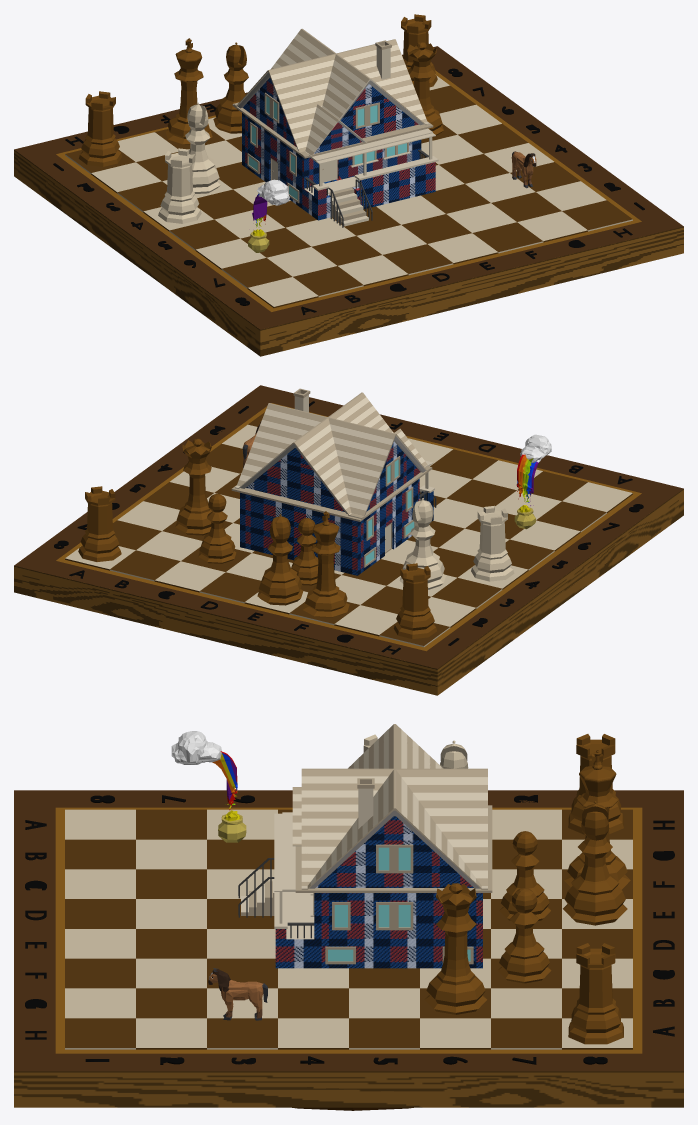
The picture shows the model from 3 angles, top to bottom: view 1: azimuth 30°, elevation 25°; view 2: azimuth 150°, elevation 25°; view 3: azimuth 270°, elevation 25°; orthographic projection. The views are drawn at different scales.
Parts seen in each view (by area): view 1: Cube.002, Cube.171, OBJRANDOM_RAINBOW, ANIMAL_CABALLO; view 2: Cube.002, Cube.171, OBJRANDOM_RAINBOW; view 3: Cube.002, Cube.171, OBJRANDOM_RAINBOW, ANIMAL_CABALLO.
Part boxes in pixels (left/top/right/bottom): Cube.002: left=14, top=14, right=683, bottom=356; Cube.171: left=232, top=28, right=438, bottom=227; OBJRANDOM_RAINBOW: left=248, top=179, right=289, bottom=252; ANIMAL_CABALLO: left=511, top=151, right=536, bottom=188; Cube.002: left=14, top=385, right=683, bottom=695; Cube.171: left=231, top=388, right=436, bottom=575; OBJRANDOM_RAINBOW: left=514, top=434, right=551, bottom=529; Cube.002: left=14, top=734, right=683, bottom=1107; Cube.171: left=238, top=724, right=492, bottom=968; OBJRANDOM_RAINBOW: left=171, top=731, right=246, bottom=842; ANIMAL_CABALLO: left=208, top=968, right=267, bottom=1020.
Size of the model in its own units: 3981 by 1551 by 4012.
Materials: 33 (3 with a texture image).
